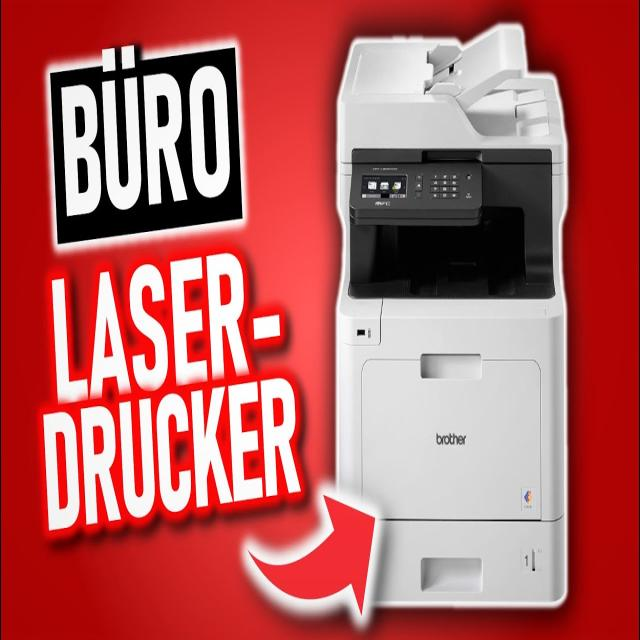printer: (333, 21, 569, 610)
